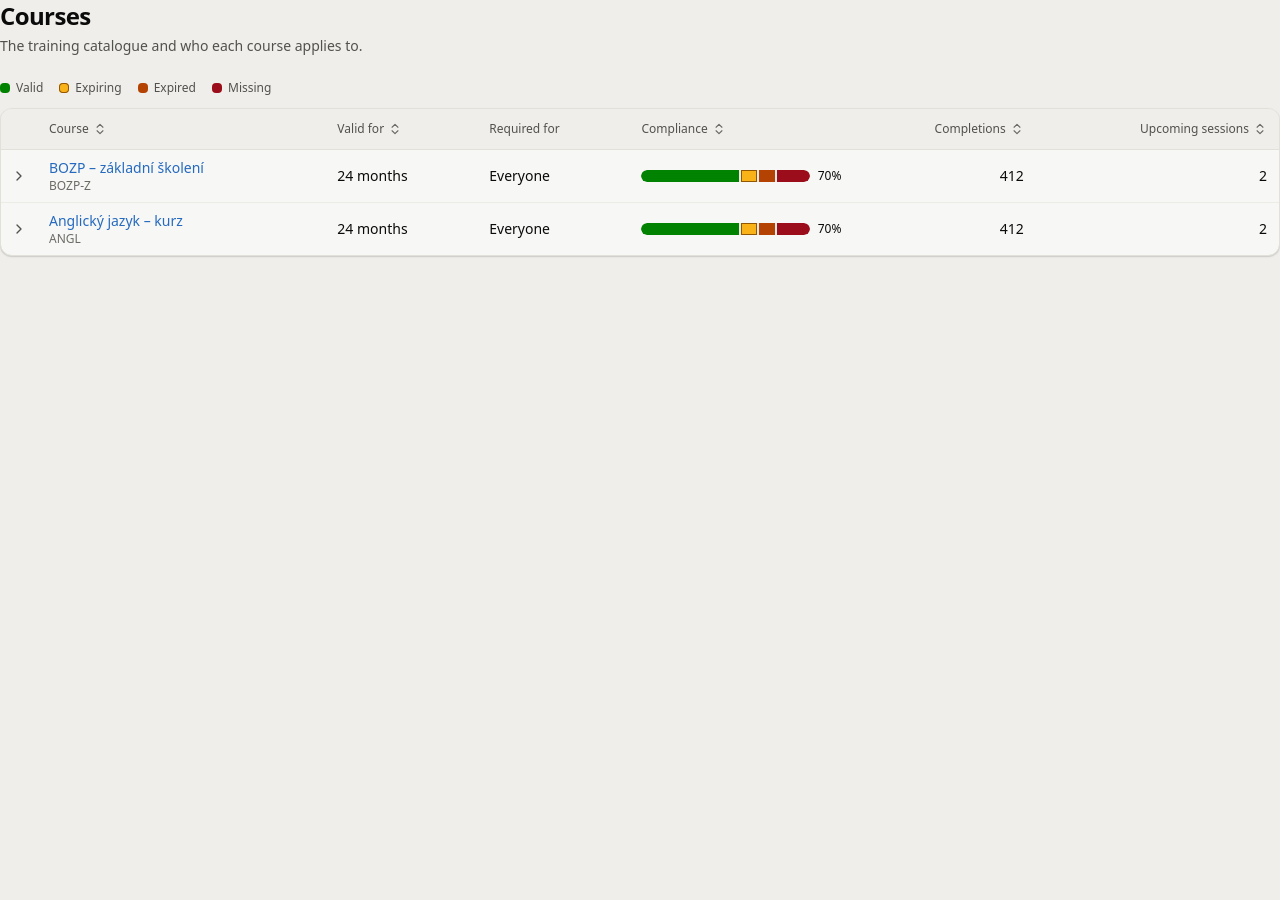
Test case: course list › opens a course to its sessions, what a session needs, and each department
This screenshot has width=1280, height=900.
What coordinates should you click on to do the following:
click the button named "Details for BOZP – základní školení"
I would click on:
 (19, 176)
Its box is [5,162,33,190].
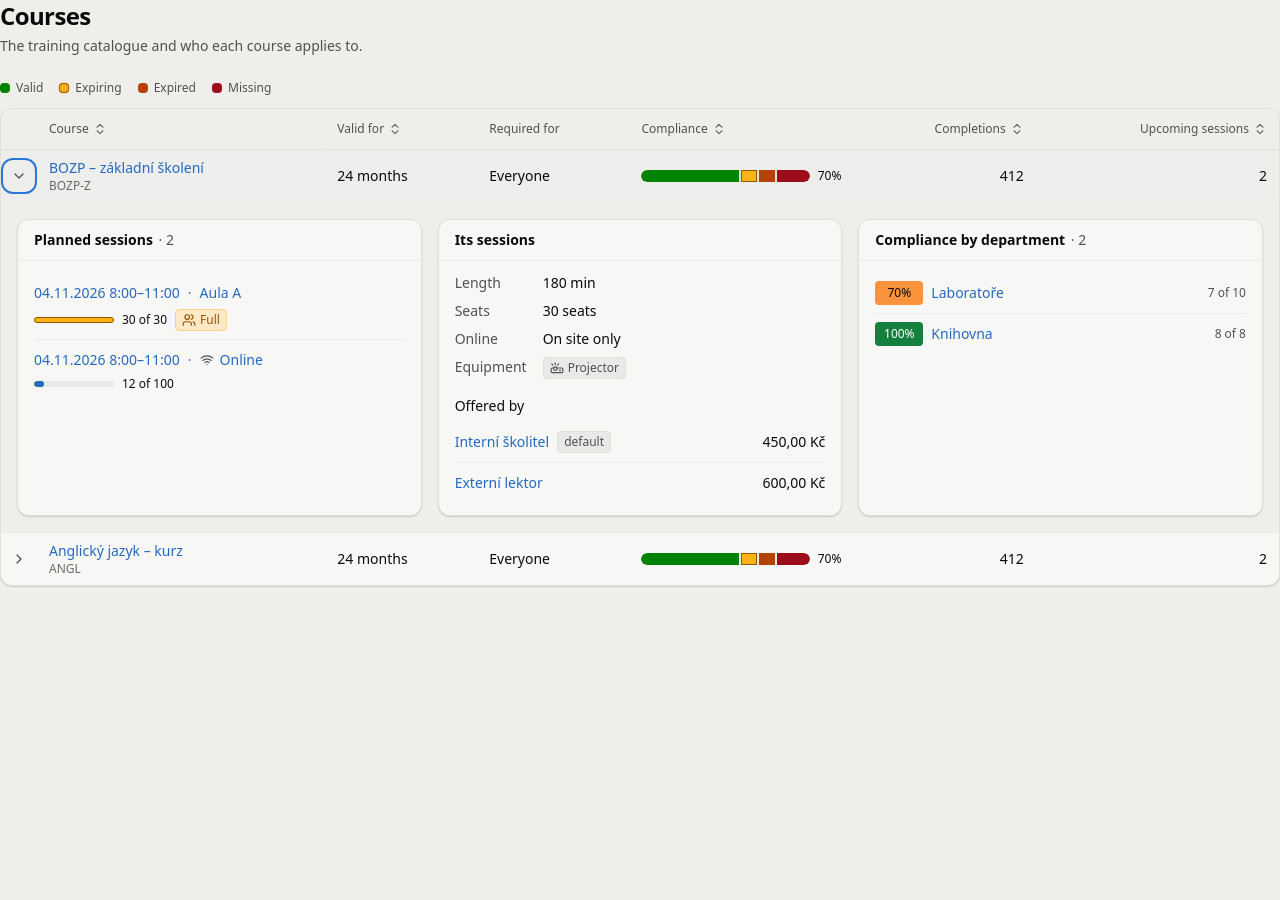
Result: the text "Full" is shown at [175,309,227,331]
Result: the text "180 min" is shown at [543,273,596,292]
Result: the text "30 seats" is shown at [543,301,596,320]
What coordinates should you click on to do the following:
click the button named "Details for Anglický jazyk – kurz"
I would click on:
 (19, 559)
Its box is [5,545,33,573].
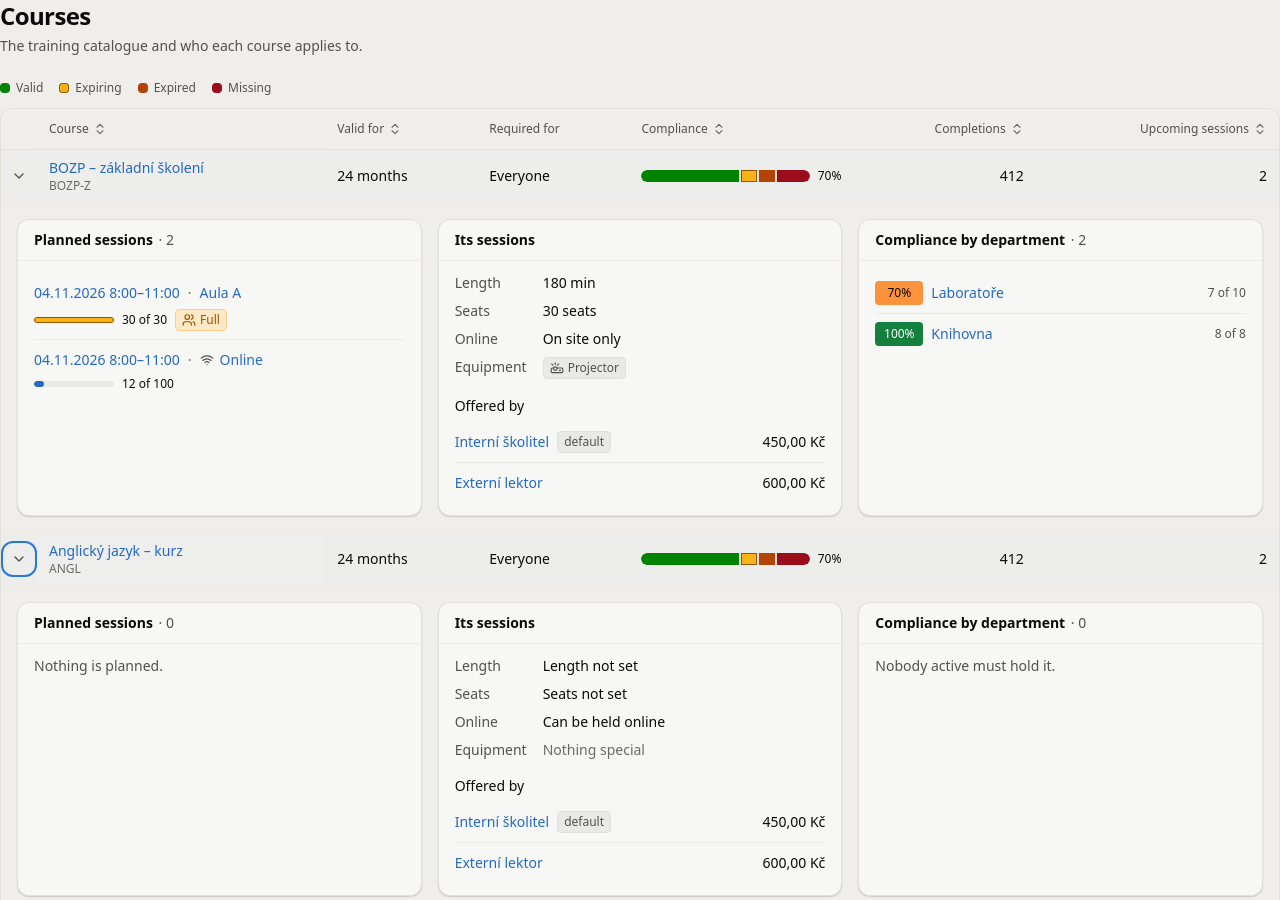
Result: the text "Nothing is planned." is shown at [34,656,163,675]
Result: the text "Length not set" is shown at [543,656,638,675]
Result: the text "Seats not set" is shown at [543,684,627,703]
